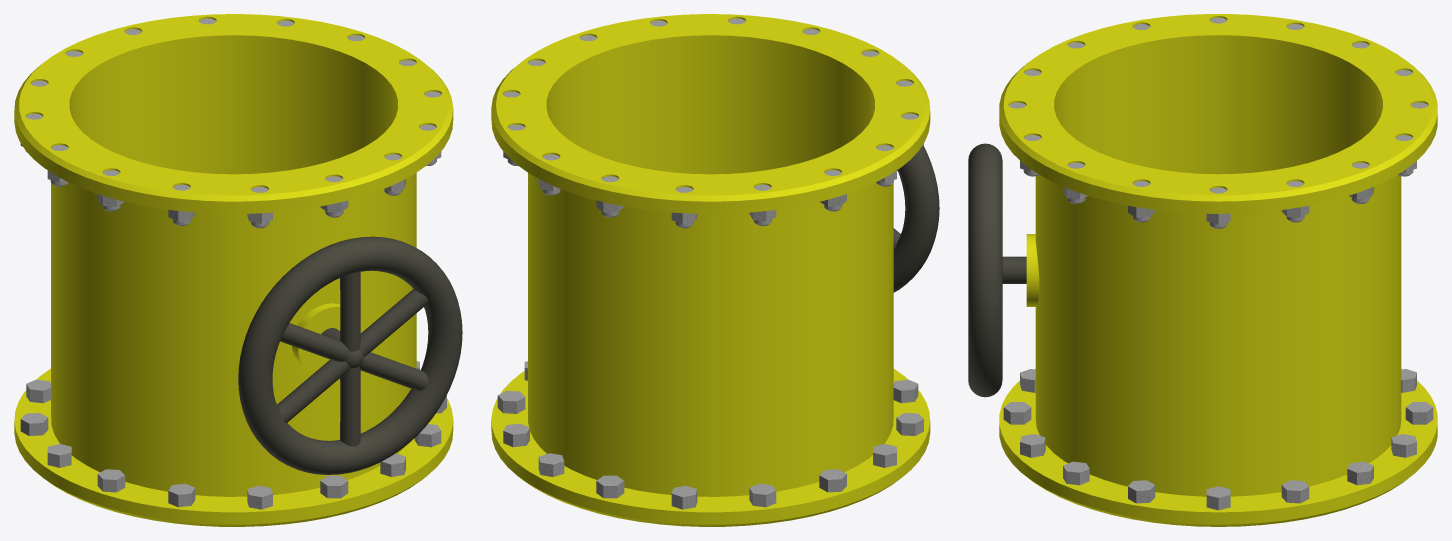
The model's file is pipe_with_valve.obj.
3 views of the same model, side by side, from view 1: azimuth 30°, elevation 25°; view 2: azimuth 150°, elevation 25°; view 3: azimuth 270°, elevation 25° (orthographic).
Visible parts, largest first — view 1: pipe, valve, bolts; view 2: pipe, bolts, valve; view 3: pipe, valve, bolts.
Boxes of the visible parts, bbox=[...] form: pipe: bbox=[14, 14, 453, 526]; valve: bbox=[238, 236, 462, 474]; bolts: bbox=[20, 18, 446, 509]; pipe: bbox=[491, 14, 930, 526]; bolts: bbox=[497, 18, 923, 509]; valve: bbox=[893, 146, 939, 292]; pipe: bbox=[999, 14, 1437, 526]; valve: bbox=[968, 143, 1026, 397]; bolts: bbox=[1003, 17, 1433, 510].
Bounding box in the file's own units: 1.2 × 1 × 1.28.
3 materials, 1 textured.
